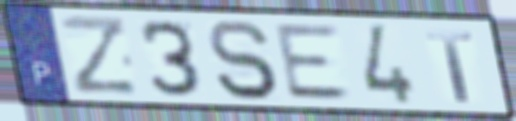3: (139, 17, 205, 98)
4: (360, 21, 420, 107)
E: (272, 23, 357, 102)
S: (205, 17, 282, 102)
T: (423, 29, 477, 105)
Z: (57, 13, 142, 97)
